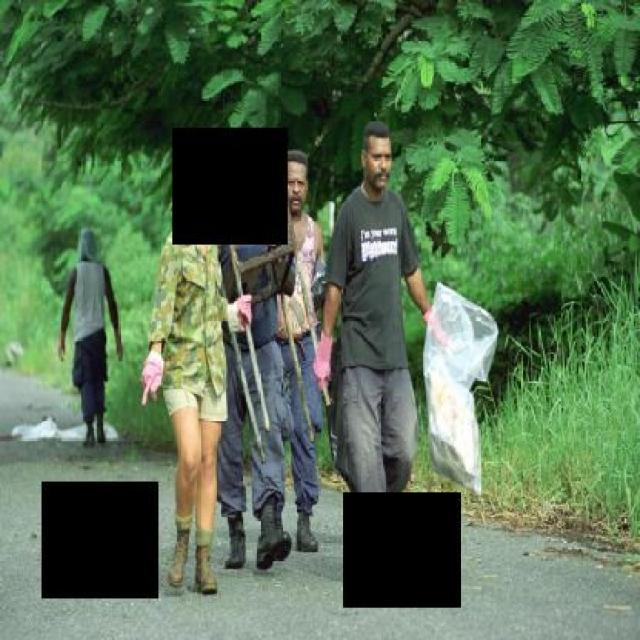plastic bag: (418, 280, 500, 505)
